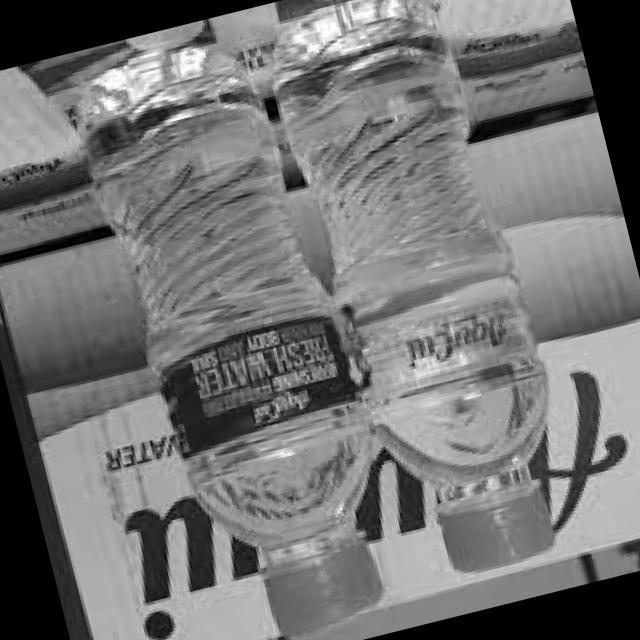good: (57, 18, 443, 640), (253, 0, 609, 612)
